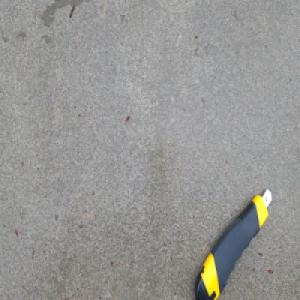Cutter: (192, 182, 273, 299)
